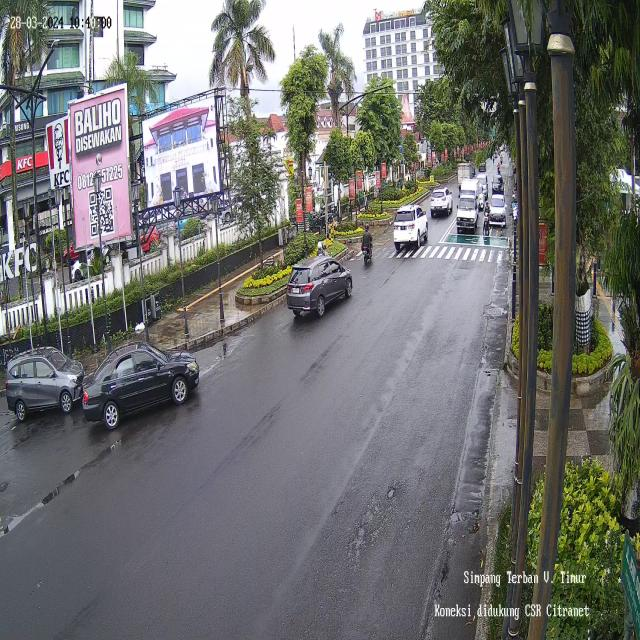car: (82, 340, 202, 430), (4, 350, 86, 417), (287, 256, 353, 312), (390, 207, 430, 247), (456, 195, 480, 233), (429, 185, 452, 216), (488, 196, 508, 227), (494, 173, 504, 194)
motorcycle: (362, 222, 372, 264), (482, 198, 491, 234)
truck: (458, 162, 473, 189)
